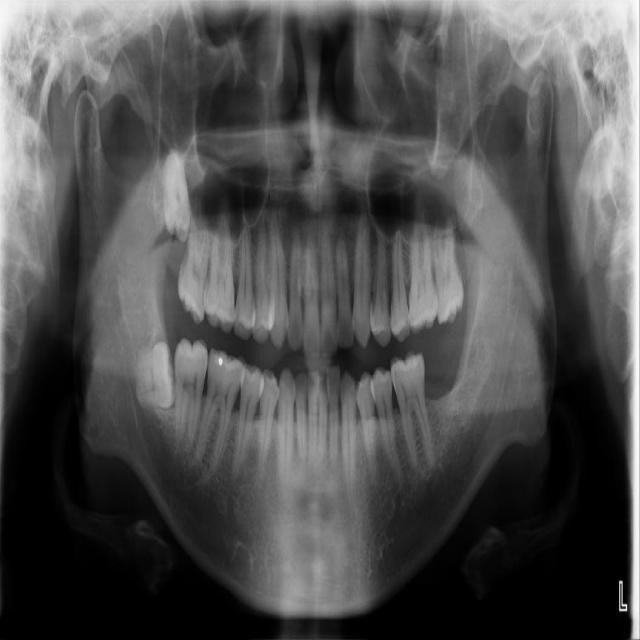3M ESPE Implant: (156, 152, 193, 245)
52: (195, 347, 250, 410)
73: (599, 598, 605, 608)
BioHorizons Implant: (170, 337, 209, 450), (429, 220, 466, 325)
Caries: (174, 196, 215, 325)
Keystone Dental Implant: (128, 338, 182, 413)
